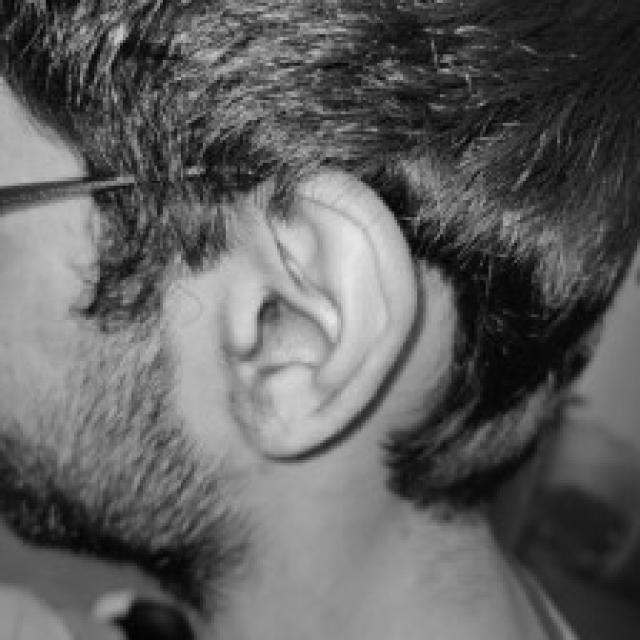ear: (220, 171, 411, 451)
